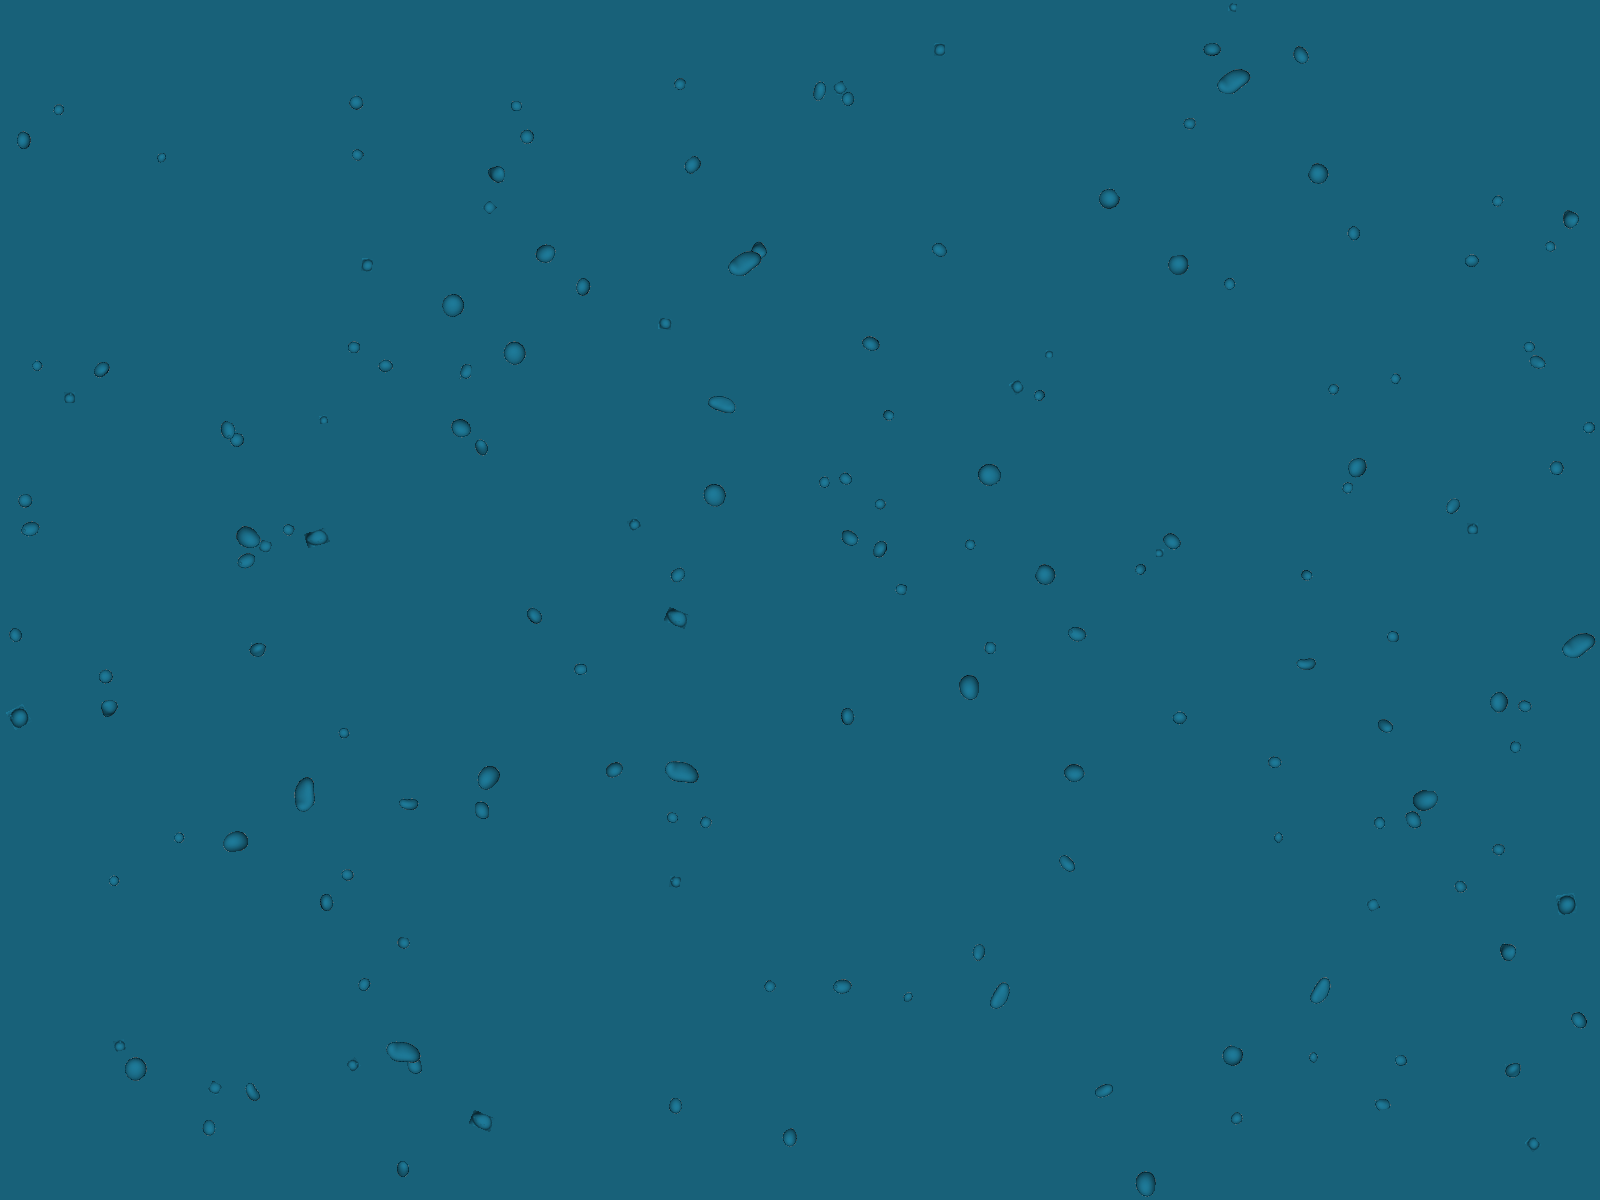drop: (380, 1029, 426, 1075), (282, 771, 328, 817), (660, 749, 704, 795), (724, 247, 763, 279), (1558, 629, 1597, 661), (1214, 66, 1254, 97), (231, 521, 265, 555), (498, 337, 532, 371), (118, 1053, 152, 1087), (973, 458, 1007, 492), (471, 761, 505, 794), (437, 289, 470, 321), (1306, 973, 1335, 1010), (986, 978, 1014, 1015), (1483, 687, 1513, 717), (1094, 183, 1123, 214), (700, 480, 729, 511), (1060, 759, 1089, 789), (1304, 160, 1333, 190), (1031, 561, 1060, 591), (1492, 937, 1521, 966), (1555, 203, 1584, 232), (1217, 1042, 1246, 1070), (806, 77, 834, 105), (5, 703, 33, 731), (1133, 1168, 1158, 1199), (447, 415, 474, 442), (706, 393, 740, 415), (569, 274, 596, 300), (829, 973, 855, 1000), (1343, 454, 1369, 480), (239, 1078, 265, 1105), (957, 673, 981, 702), (467, 1109, 496, 1133), (965, 939, 991, 964), (858, 332, 884, 357), (533, 242, 559, 267), (663, 606, 690, 630), (89, 357, 113, 383), (304, 527, 331, 550), (522, 604, 547, 628), (1524, 350, 1548, 376), (11, 129, 37, 153), (1289, 44, 1314, 68), (779, 1126, 803, 1151), (680, 153, 706, 176), (1160, 529, 1184, 555), (1065, 621, 1090, 645), (18, 516, 42, 541), (391, 1156, 414, 1181), (222, 831, 249, 852), (1167, 705, 1191, 729), (226, 429, 249, 453), (215, 418, 239, 442), (469, 435, 493, 459), (1555, 892, 1579, 916), (396, 793, 421, 816), (3, 625, 26, 648), (1340, 223, 1364, 246), (94, 666, 117, 689), (1056, 852, 1078, 876), (97, 698, 120, 722), (483, 163, 506, 185), (747, 237, 770, 261), (315, 890, 336, 915), (1412, 790, 1439, 811), (1459, 248, 1482, 271), (373, 353, 396, 376), (837, 705, 858, 729), (1199, 40, 1225, 61), (1293, 654, 1318, 674), (835, 89, 858, 111), (517, 126, 539, 147), (236, 550, 257, 572), (1094, 1080, 1116, 1102), (1227, 1107, 1249, 1129), (929, 238, 950, 261), (666, 565, 689, 586), (1167, 255, 1189, 276), (1403, 808, 1424, 832), (1489, 839, 1511, 861), (404, 1054, 425, 1076), (15, 490, 35, 512), (1569, 1010, 1589, 1031), (1579, 417, 1600, 437), (1369, 812, 1390, 833), (353, 974, 374, 995), (835, 469, 855, 490), (1450, 877, 1471, 897), (247, 640, 268, 661), (695, 814, 717, 834), (760, 978, 781, 998), (346, 145, 367, 166), (871, 538, 889, 561), (1443, 495, 1463, 516), (1220, 274, 1240, 294), (1376, 716, 1396, 736), (277, 521, 297, 541), (1130, 558, 1150, 579), (1029, 384, 1049, 405), (666, 1095, 685, 1117), (346, 93, 365, 113), (1547, 459, 1567, 478), (26, 357, 47, 376), (840, 529, 860, 548), (1516, 697, 1534, 717), (1180, 113, 1199, 134), (878, 406, 897, 426), (1296, 566, 1315, 586), (200, 1118, 218, 1139), (169, 829, 188, 848), (105, 872, 123, 891), (1392, 1051, 1411, 1070), (669, 74, 688, 93), (891, 581, 910, 600), (1488, 192, 1507, 211), (605, 761, 624, 779), (1386, 371, 1403, 389), (1507, 740, 1526, 758), (1524, 1134, 1542, 1153), (474, 800, 490, 821), (339, 866, 357, 884), (1266, 754, 1284, 771), (1504, 1063, 1522, 1080), (1008, 378, 1026, 396), (1325, 379, 1342, 397), (872, 495, 889, 512), (1373, 1097, 1392, 1112), (663, 811, 682, 826), (573, 662, 590, 678), (1385, 626, 1401, 643), (981, 640, 998, 657), (345, 339, 362, 355), (626, 516, 643, 532), (345, 1056, 362, 1073), (831, 79, 848, 96), (481, 199, 498, 216), (1305, 1049, 1322, 1065), (1521, 339, 1538, 354), (459, 362, 472, 381), (1543, 239, 1558, 256), (50, 101, 66, 117), (656, 316, 673, 332), (207, 1080, 223, 1095), (1364, 897, 1381, 913), (1340, 479, 1356, 495), (816, 474, 831, 490), (1270, 829, 1286, 845), (396, 937, 411, 952), (336, 725, 351, 740), (112, 1037, 127, 1053), (258, 539, 273, 555), (360, 257, 374, 274), (508, 100, 524, 113), (154, 150, 169, 164), (963, 538, 976, 552), (901, 989, 915, 1003), (934, 42, 946, 57), (63, 391, 76, 405), (1466, 522, 1479, 534), (669, 876, 682, 887), (1227, 3, 1238, 13), (1044, 349, 1054, 359), (1155, 548, 1165, 558), (319, 415, 328, 424)
